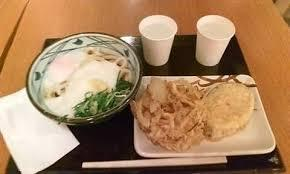kakiage: (134, 79, 206, 151)
satumaimo: (204, 83, 255, 140)
